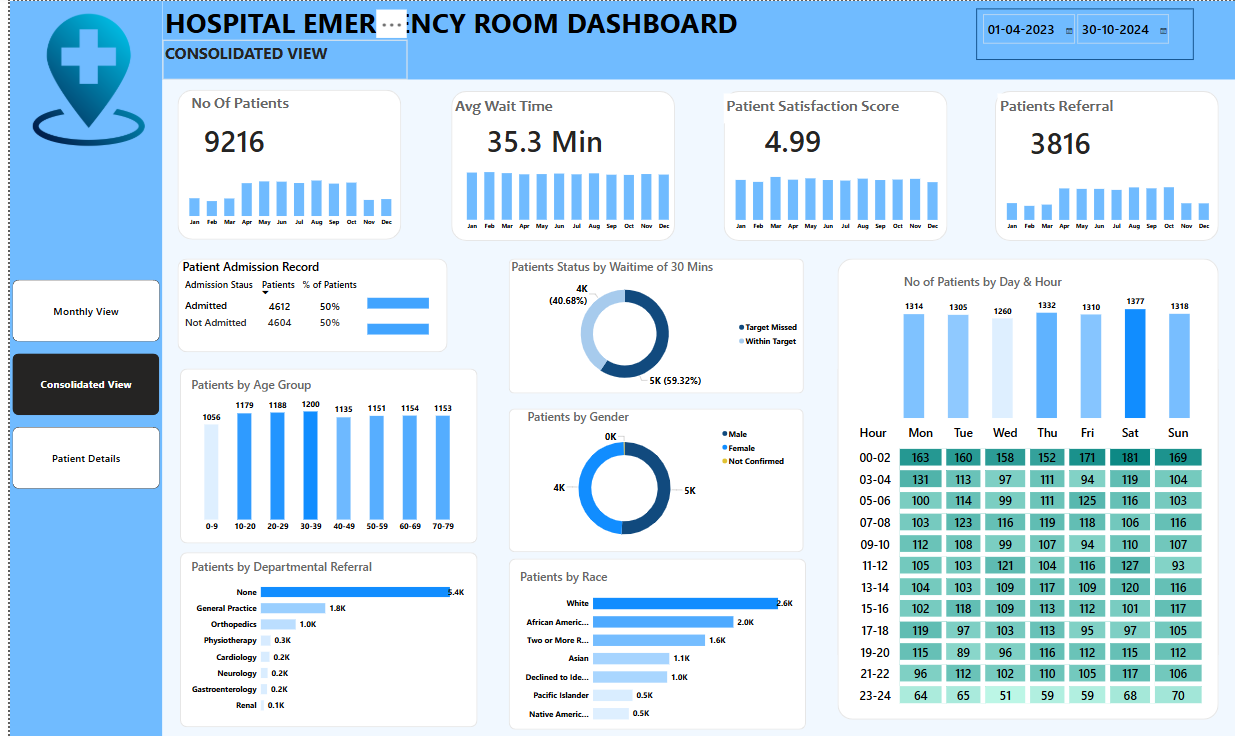

The dashboard page shown, as its layout file describes it:
{"tool":"powerbi","page":{"name":"Consolidated View","canvas":[2500,1500],"ordinal":1},"visuals":[{"type":"shape","box":[0,0,310,1500.5],"z":0},{"type":"shape","box":[310.8,0,2188.4,160],"z":1000},{"type":"textbox","box":[310.8,0,1235.6,109.5],"z":2000},{"type":"textbox","box":[310.8,79,499.3,81.5],"z":3000},{"type":"shape","box":[341.4,180.9,456,305.7],"z":4000},{"type":"card","fields":{"Values":["Hospital ER_Data.No of Patients"]},"box":[371.9,249.7,170.7,66.2],"z":5000},{"type":"slicer","fields":{"Values":["Time_Table.Date"]},"box":[1969.3,15.3,443.3,104.5],"z":6000},{"type":"textbox","box":[364.3,183.4,264.9,66.2],"z":7000},{"type":"areaChart","fields":{"Category":["Time_Table.Date.Variation.Date Hierarchy.Day"],"Y":["Hospital ER_Data.No of Patients"]},"box":[899.3,315.9,450.9,170.7],"z":8000},{"type":"shape","box":[900.1,183.4,456,305.7],"z":9000},{"type":"shape","box":[1453.8,183.4,456,305.7],"z":10000},{"type":"shape","box":[2007.5,183.4,456,305.7],"z":11000},{"type":"textbox","box":[901.8,188.5,226.7,61.1],"z":12000},{"type":"card","fields":{"Values":["Hospital ER_Data.Avg wait time"]},"box":[929.9,249.7,321,66.2],"z":13000},{"type":"clusteredColumnChart","fields":{"Category":["Time_Table.Month Name"],"Y":["Hospital ER_Data.Avg patient satisfaction score"]},"box":[1459.8,333.7,450.9,142.7],"z":14000},{"type":"clusteredColumnChart","fields":{"Y":["Hospital ER_Data.No of Patients"],"Category":["Time_Table.Month Name"]},"box":[346.5,318.4,450.9,150],"z":15000},{"type":"textbox","box":[1454.7,188.5,382.1,61.1],"z":16000},{"type":"card","fields":{"Values":["Hospital ER_Data.Avg patient satisfaction score"]},"box":[1510.7,249.7,170.7,66.2],"z":17000},{"type":"clusteredColumnChart","fields":{"Category":["Time_Table.Month Name"],"Y":["Avg(Hospital ER_Data.Patient Waittime)"]},"box":[911.8,325.9,450.9,150],"z":18000},{"type":"textbox","box":[2012.6,188.5,264.9,61.1],"z":19000},{"type":"card","fields":{"Values":["Hospital ER_Data.No of Patients Referral"]},"box":[2055.9,252.2,170.7,66.2],"z":20000},{"type":"clusteredColumnChart","fields":{"Category":["Time_Table.Month Name"],"Y":["Hospital ER_Data.No of Patients Referral"]},"box":[2012.6,336.3,450.9,140.1],"z":21000},{"type":"shape","box":[341.4,524.8,550.3,191.1],"z":22000},{"type":"pivotTable","title":"Patient Admission Record","fields":{"Rows":["Hospital ER_Data.Admission Staus"],"Values":["Hospital ER_Data.No of Patients1","Hospital ER_Data.No of Patients"]},"box":[346.5,524.8,545,190],"z":23000},{"type":"barChart","fields":{"Category":["Hospital ER_Data.Admission Staus"],"Y":["Hospital ER_Data.No of Patients"]},"box":[723.5,565.6,173.2,150.3],"z":24000},{"type":"shape","box":[346.5,749,606.3,356.7],"z":25000},{"type":"clusteredColumnChart","title":"Patients by Age Group","fields":{"Category":["Hospital ER_Data.Age Group"],"Y":["Hospital ER_Data.No of Patients"]},"box":[364.3,764.3,565.6,328.6],"z":26000},{"type":"shape","box":[346.5,1123.5,606.3,356.7],"z":27000},{"type":"barChart","title":"Patients by Departmental Referral","fields":{"Y":["Hospital ER_Data.No of Patients"],"Category":["Hospital ER_Data.Department Referral"]},"box":[364.3,1136.2,565.6,328.6],"z":28000},{"type":"shape","box":[1016.5,524.8,601.2,275.1],"z":29000},{"type":"donutChart","title":"Patients Status by Waitime of 30 Mins","fields":{"Category":["Hospital ER_Data.Waitime Status"],"Y":["Hospital ER_Data.No of Patients"]},"box":[1016.5,524.8,601.2,275.1],"z":30000},{"type":"shape","box":[1016.5,830.5,601.2,293],"z":31000},{"type":"donutChart","title":"Patients by Gender","fields":{"Y":["Hospital ER_Data.No of Patients"],"Category":["Hospital ER_Data.Patient Gender"]},"box":[1049.6,830.5,542.6,293],"z":32000},{"type":"shape","box":[1016.5,1136.2,606.3,349],"z":33000},{"type":"barChart","title":"Patients by Race","fields":{"Y":["Hospital ER_Data.No of Patients"],"Category":["Hospital ER_Data.Patient Race"]},"box":[1034.6,1155.9,565.6,328.6],"z":34000},{"type":"shape","box":[1686.5,524.8,777,940.1],"z":35000},{"type":"pivotTable","fields":{"Rows":["Hospital ER_Data.Hour Interval"],"Columns":["Time_Table.Day Name"],"Values":["Hospital ER_Data.No of Patients"]},"box":[1709.4,856,731.2,585.9],"z":36000},{"type":"clusteredColumnChart","title":"No of Patients by Day & Hour","fields":{"Category":["Time_Table.Day Name"],"Y":["Hospital ER_Data.No of Patients"]},"box":[1816.4,555.4,596.1,300.6],"z":37000},{"type":"image","box":[20.4,10.2,280.2,300.6],"z":38000},{"type":"pageNavigator","box":[5.1,568.1,300.6,428],"z":39000}]}

Visuals, with their boxes in screenshot pixels (x1, y1, x2, y2), scaled from the page's 2500x1500 canvas onto the 1235x736 screenshot:
shape: (x1=0, y1=0, x2=153, y2=735)
shape: (x1=154, y1=0, x2=1234, y2=79)
textbox: (x1=154, y1=0, x2=764, y2=54)
textbox: (x1=154, y1=39, x2=400, y2=79)
shape: (x1=169, y1=89, x2=394, y2=239)
card - Hospital ER_Data.No of Patients: (x1=184, y1=123, x2=268, y2=155)
slicer - Time_Table.Date: (x1=973, y1=8, x2=1192, y2=59)
textbox: (x1=180, y1=90, x2=311, y2=122)
areaChart - Time_Table.Date.Variation.Date Hierarchy.Day x Hospital ER_Data.No of Patients: (x1=444, y1=155, x2=667, y2=239)
shape: (x1=445, y1=90, x2=670, y2=240)
shape: (x1=718, y1=90, x2=943, y2=240)
shape: (x1=992, y1=90, x2=1217, y2=240)
textbox: (x1=445, y1=92, x2=557, y2=122)
card - Hospital ER_Data.Avg wait time: (x1=459, y1=123, x2=618, y2=155)
clusteredColumnChart - Time_Table.Month Name x Hospital ER_Data.Avg patient satisfaction score: (x1=721, y1=164, x2=944, y2=234)
clusteredColumnChart - Hospital ER_Data.No of Patients x Time_Table.Month Name: (x1=171, y1=156, x2=394, y2=230)
textbox: (x1=719, y1=92, x2=907, y2=122)
card - Hospital ER_Data.Avg patient satisfaction score: (x1=746, y1=123, x2=831, y2=155)
clusteredColumnChart - Time_Table.Month Name x Avg(Hospital ER_Data.Patient Waittime): (x1=450, y1=160, x2=673, y2=234)
textbox: (x1=994, y1=92, x2=1125, y2=122)
card - Hospital ER_Data.No of Patients Referral: (x1=1016, y1=124, x2=1100, y2=156)
clusteredColumnChart - Time_Table.Month Name x Hospital ER_Data.No of Patients Referral: (x1=994, y1=165, x2=1217, y2=234)
shape: (x1=169, y1=258, x2=440, y2=351)
"Patient Admission Record" pivotTable: (x1=171, y1=258, x2=440, y2=351)
barChart - Hospital ER_Data.Admission Staus x Hospital ER_Data.No of Patients: (x1=357, y1=278, x2=443, y2=351)
shape: (x1=171, y1=368, x2=471, y2=543)
"Patients by Age Group" clusteredColumnChart: (x1=180, y1=375, x2=459, y2=536)
shape: (x1=171, y1=551, x2=471, y2=726)
"Patients by Departmental Referral" barChart: (x1=180, y1=557, x2=459, y2=719)
shape: (x1=502, y1=258, x2=799, y2=392)
"Patients Status by Waitime of 30 Mins" donutChart: (x1=502, y1=258, x2=799, y2=392)
shape: (x1=502, y1=407, x2=799, y2=551)
"Patients by Gender" donutChart: (x1=519, y1=407, x2=787, y2=551)
shape: (x1=502, y1=557, x2=802, y2=729)
"Patients by Race" barChart: (x1=511, y1=567, x2=790, y2=728)
shape: (x1=833, y1=258, x2=1217, y2=719)
pivotTable - Hospital ER_Data.Hour Interval x Time_Table.Day Name: (x1=844, y1=420, x2=1206, y2=707)
"No of Patients by Day & Hour" clusteredColumnChart: (x1=897, y1=273, x2=1192, y2=420)
image: (x1=10, y1=5, x2=148, y2=152)
pageNavigator: (x1=3, y1=279, x2=151, y2=489)
